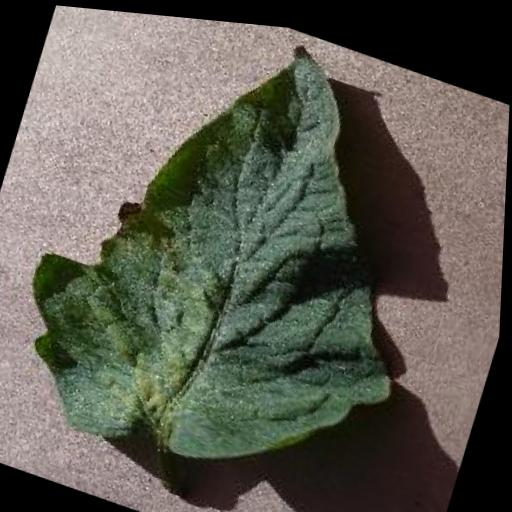Spider Mites: (0, 1, 479, 512)
